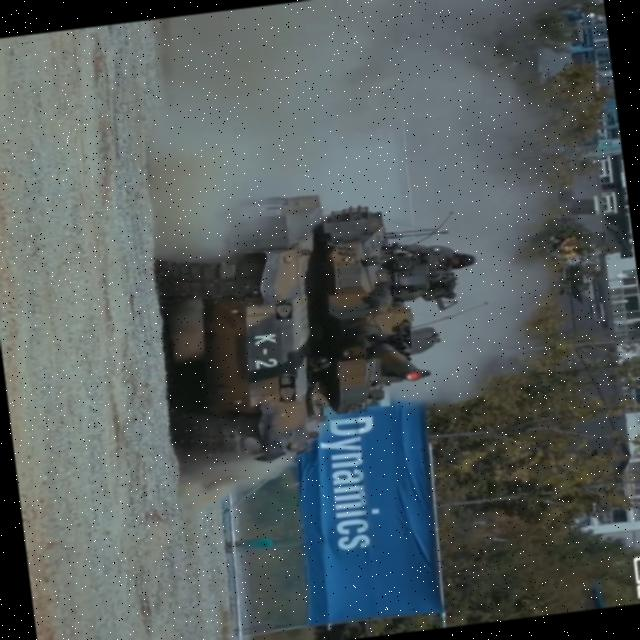korea tank: (142, 172, 498, 472)
